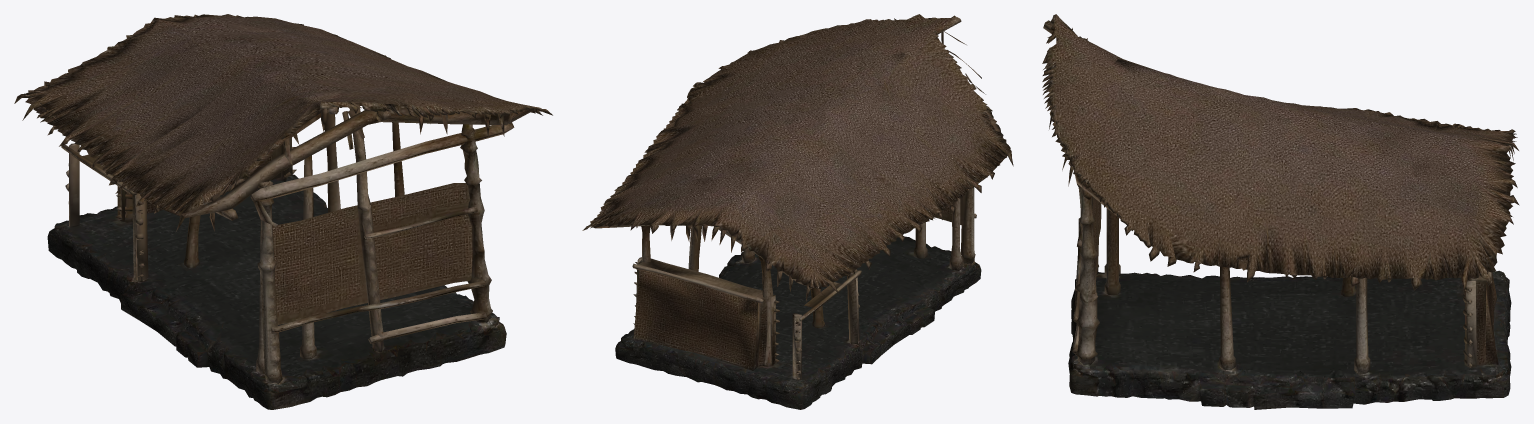
The model's file is animal-leanto.glb.
The picture shows the model from 3 angles, left to right: view 1: azimuth 30°, elevation 25°; view 2: azimuth 150°, elevation 25°; view 3: azimuth 270°, elevation 25°; orthographic projection. The views are drawn at different scales.
Parts seen in each view (by area): view 1: tripo_node_dfd0d7ec-1e69-46c2-b0a8-618467e9fa19; view 2: tripo_node_dfd0d7ec-1e69-46c2-b0a8-618467e9fa19; view 3: tripo_node_dfd0d7ec-1e69-46c2-b0a8-618467e9fa19.
Part boxes in pixels (left/top/right/bottom): tripo_node_dfd0d7ec-1e69-46c2-b0a8-618467e9fa19: left=14, top=14, right=552, bottom=409; tripo_node_dfd0d7ec-1e69-46c2-b0a8-618467e9fa19: left=582, top=14, right=1013, bottom=409; tripo_node_dfd0d7ec-1e69-46c2-b0a8-618467e9fa19: left=1042, top=14, right=1519, bottom=409.
Size of the model in its own units: 0.9082 by 0.6973 by 0.998.
1 material, 1 textured.
